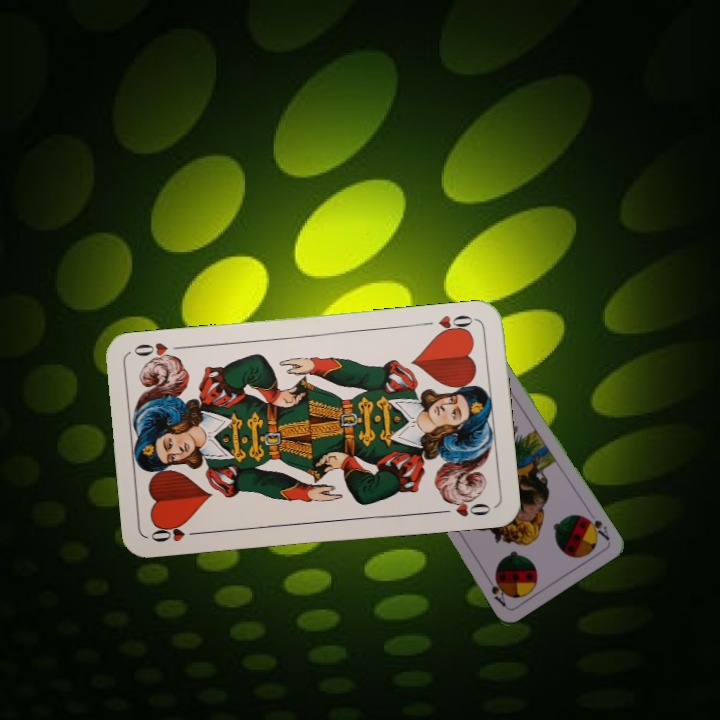HO: (418, 311, 477, 338), (146, 521, 206, 545)
SA: (580, 507, 612, 543)
